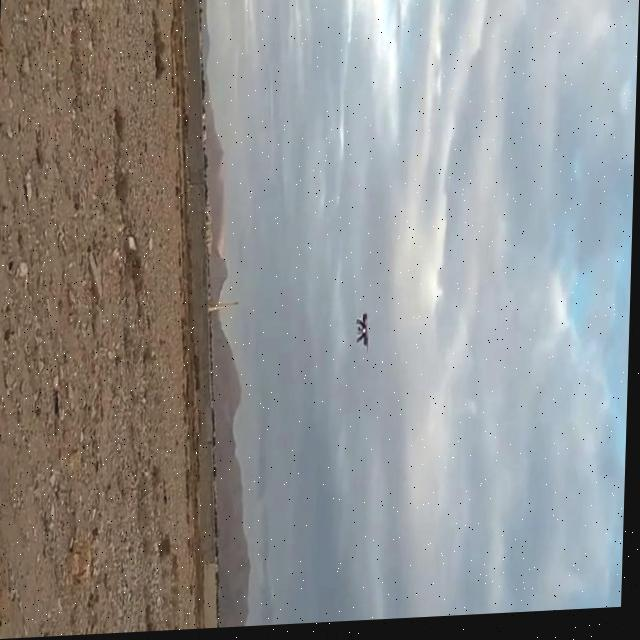drone: (352, 312, 377, 361)
